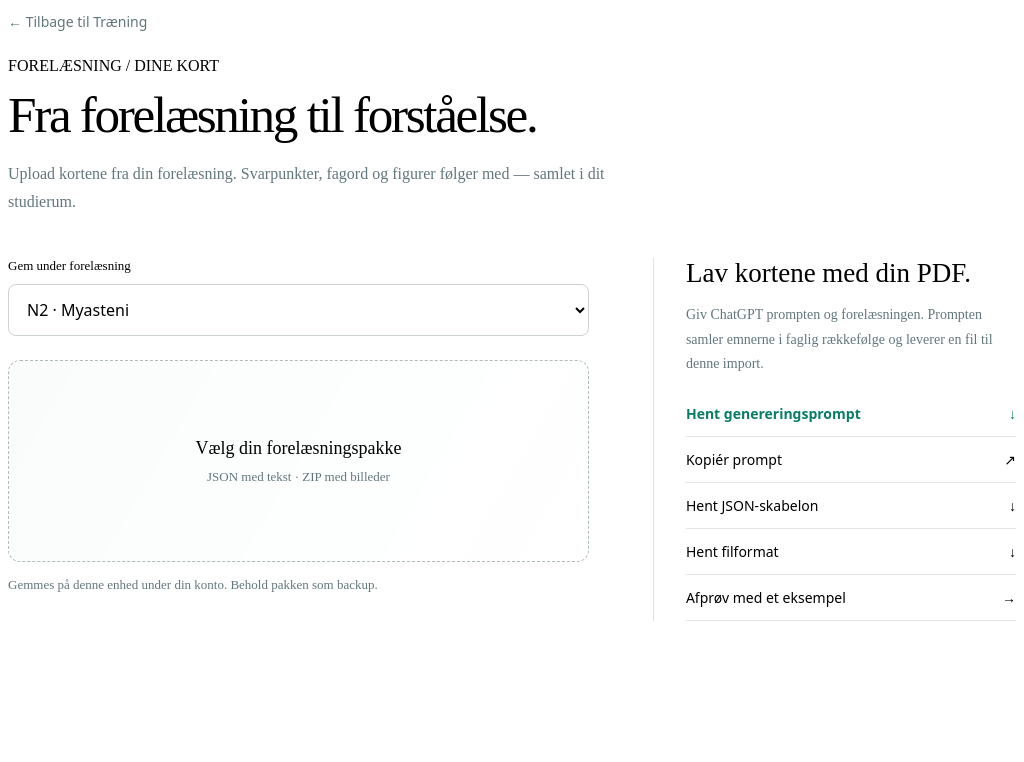
it: changing the lecture target requires a fresh restoration choice
Click the button "Afprøv med et eksempel →" at (766, 597), box [686, 574, 1016, 620]
(page scrolled)
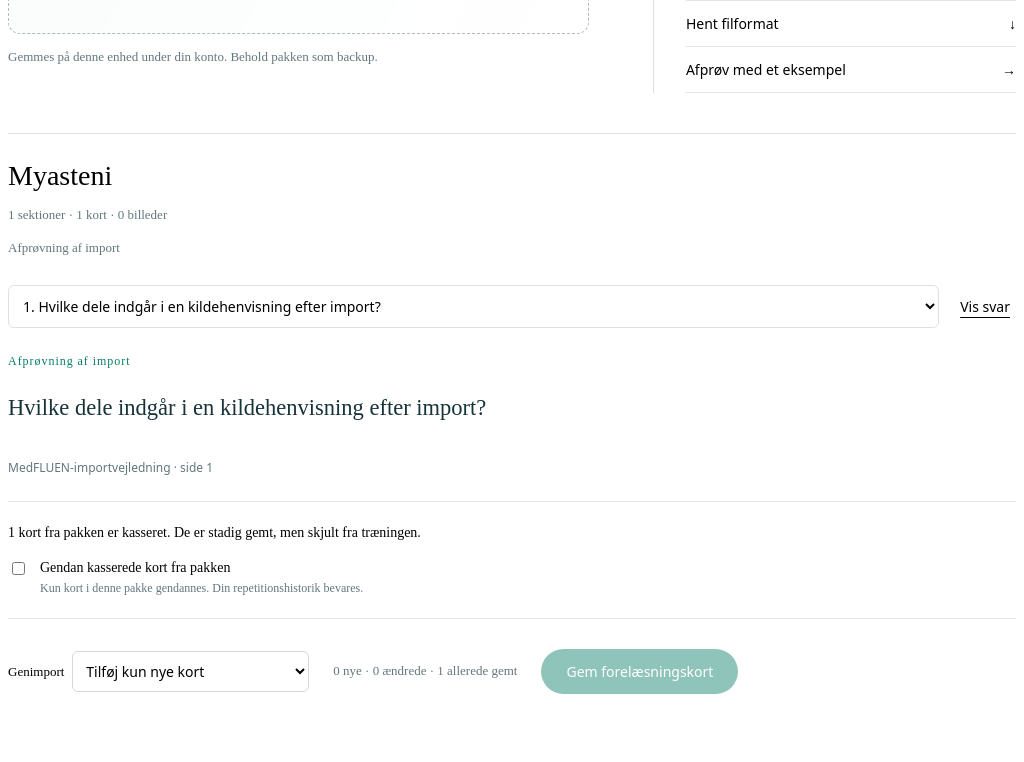
Click the checkbox named "Gendan kasserede kort fra pakken" at (18, 568), box [12, 562, 25, 575]
(page scrolled)
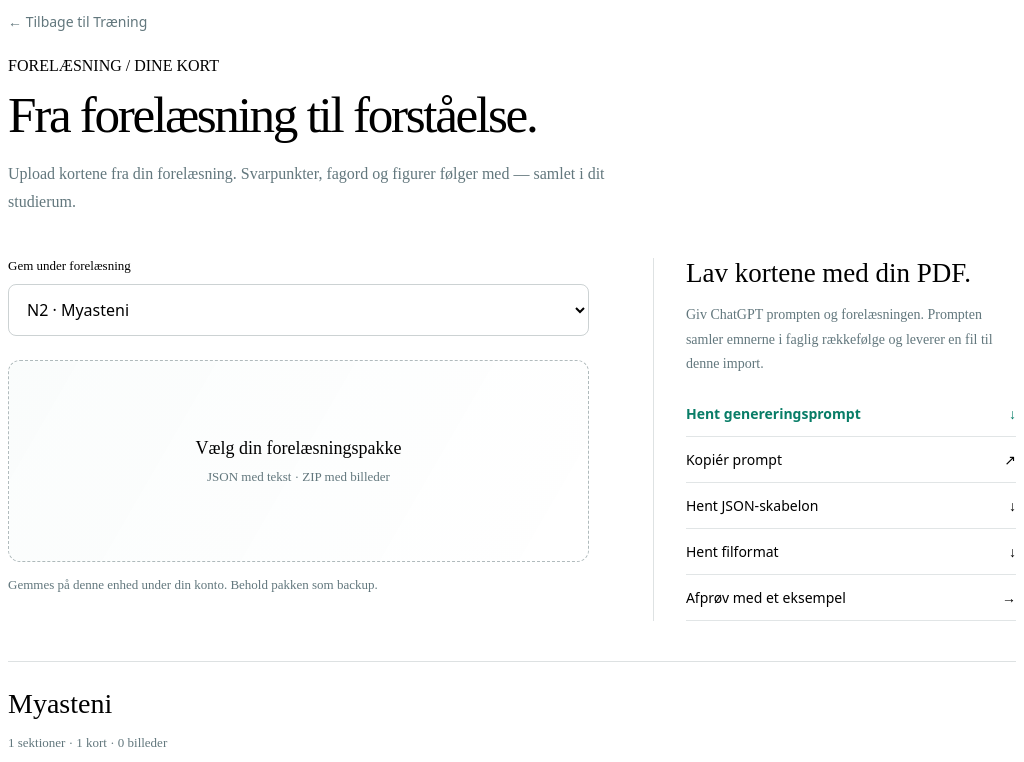
Select "Vælg forelæsning" in the dropdown named "Forelæsning" at (298, 310), box [8, 284, 589, 336]
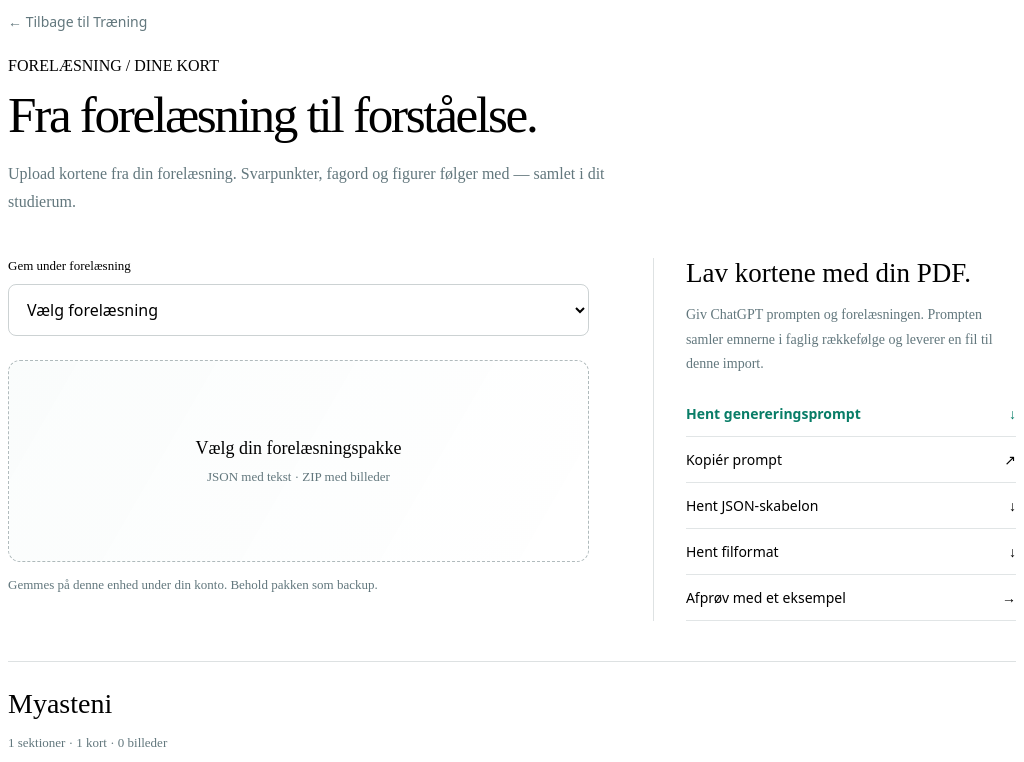
Select "N2 · Myasteni" in the dropdown named "Forelæsning" at (298, 310), box [8, 284, 589, 336]
(page scrolled)
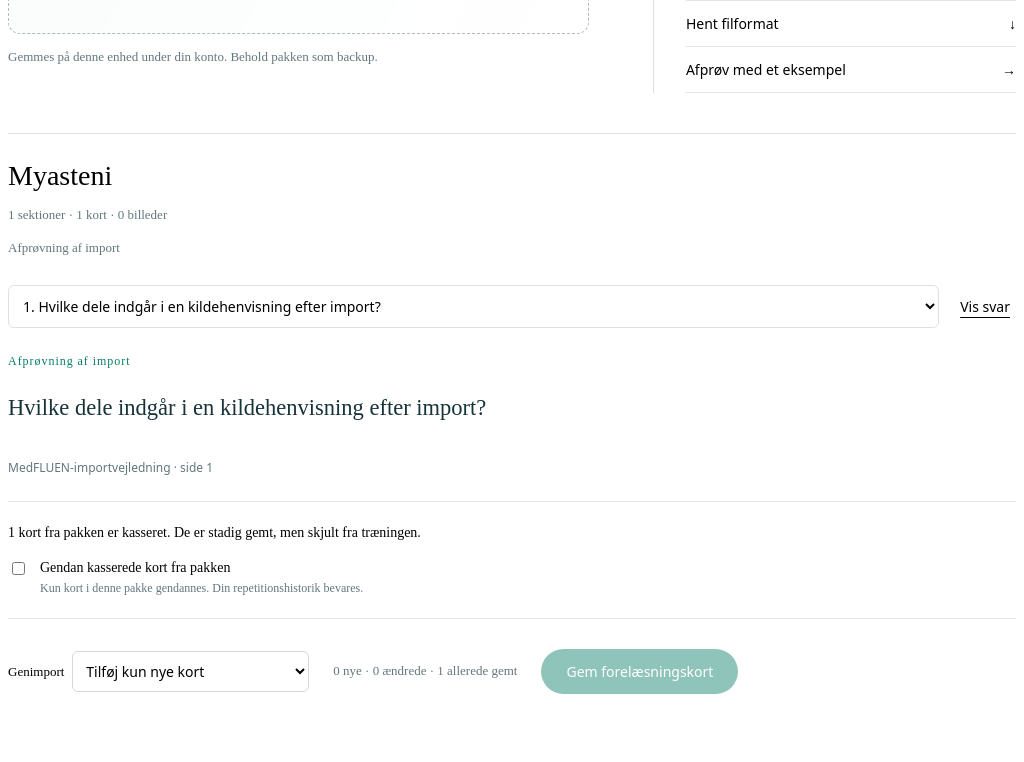
Check: the button "Gem forelæsningskort" is disabled, box [542, 649, 738, 694]
Check: the checkbox named "Gendan kasserede kort fra pakken" is not checked, box [12, 562, 25, 575]
